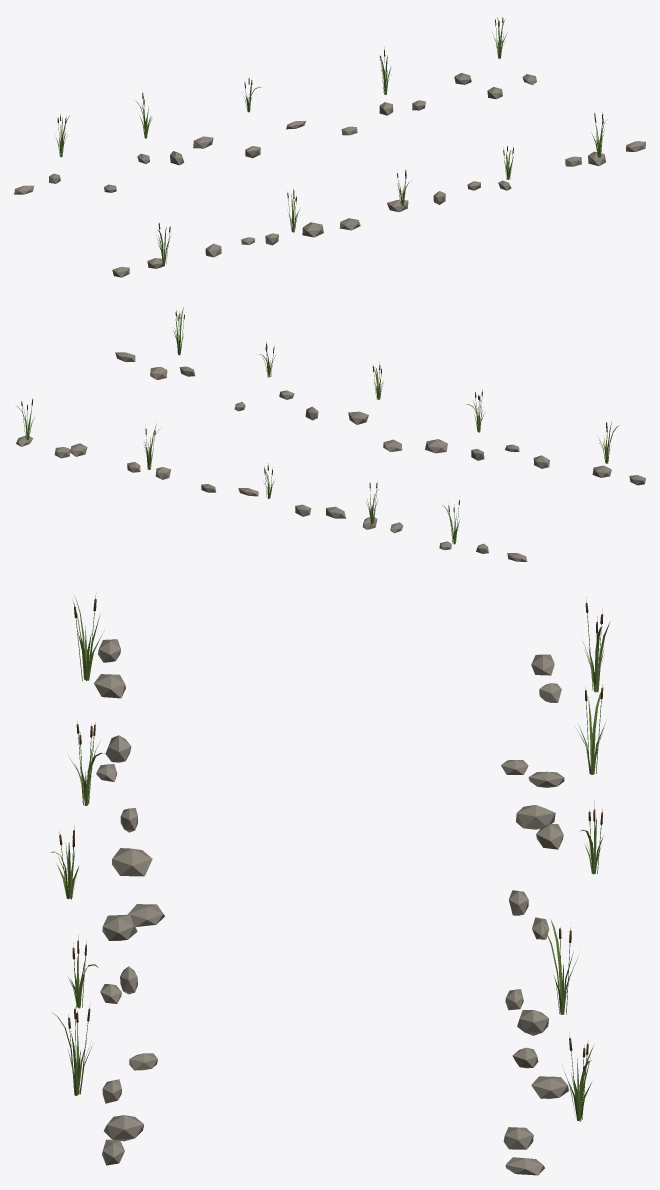
File: river_straight_center.glb
The picture shows the model from 3 angles, top to bottom: view 1: azimuth 30°, elevation 25°; view 2: azimuth 150°, elevation 25°; view 3: azimuth 270°, elevation 25°; orthographic projection. The views are drawn at different scales.
Visible parts, largest first — view 1: river_straight_center_lod0; view 2: river_straight_center_lod0; view 3: river_straight_center_lod0.
Part boxes in pixels (x1,y1,x2,y2): river_straight_center_lod0: [14, 17, 645, 277]; river_straight_center_lod0: [16, 307, 645, 561]; river_straight_center_lod0: [50, 593, 610, 1175].
Size of what is drawn, in the model's own units: 24.52 by 3.45 by 11.28.
